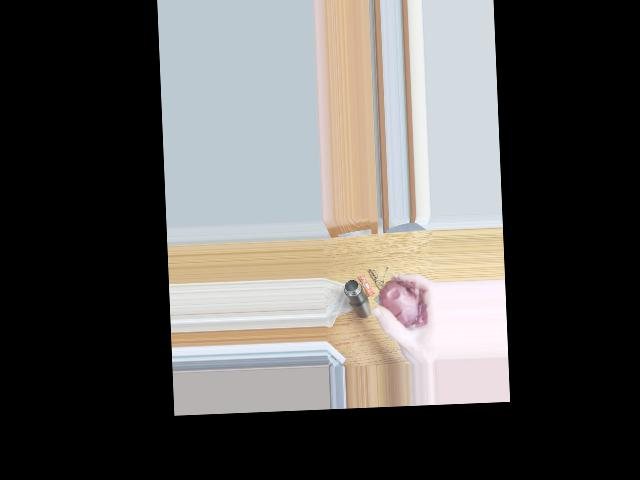onion: (380, 279, 423, 332)
